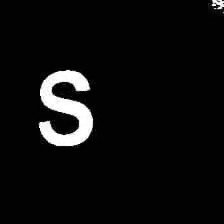LTR_S: (31, 63, 96, 150)
